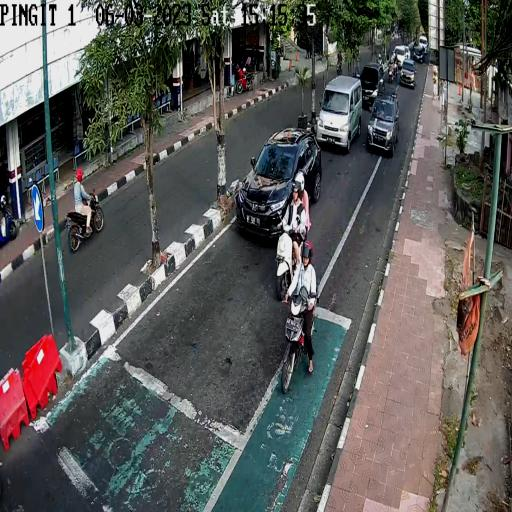mobil: (236, 125, 322, 240), (316, 74, 362, 152), (366, 90, 399, 159), (358, 59, 385, 111), (400, 59, 417, 91), (392, 45, 406, 67)
motor: (276, 286, 319, 399), (274, 216, 308, 301), (62, 194, 108, 254), (387, 64, 394, 84), (392, 62, 398, 77)
